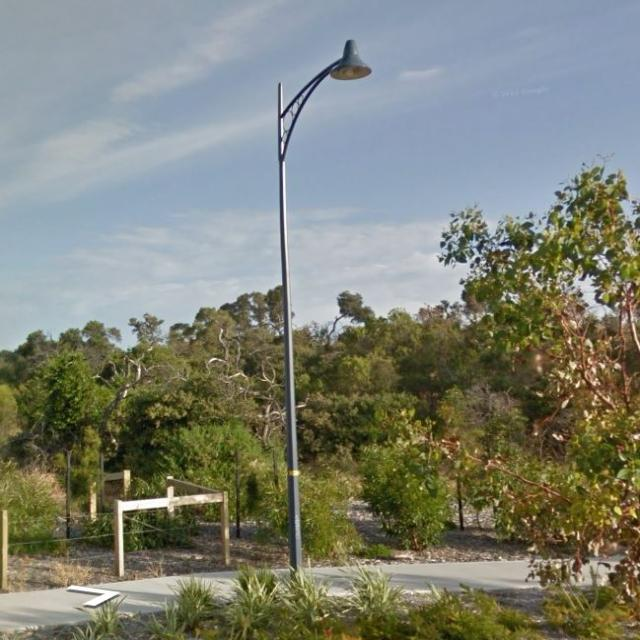steel-pole: (276, 83, 305, 591)
streetlight: (280, 37, 371, 160)
